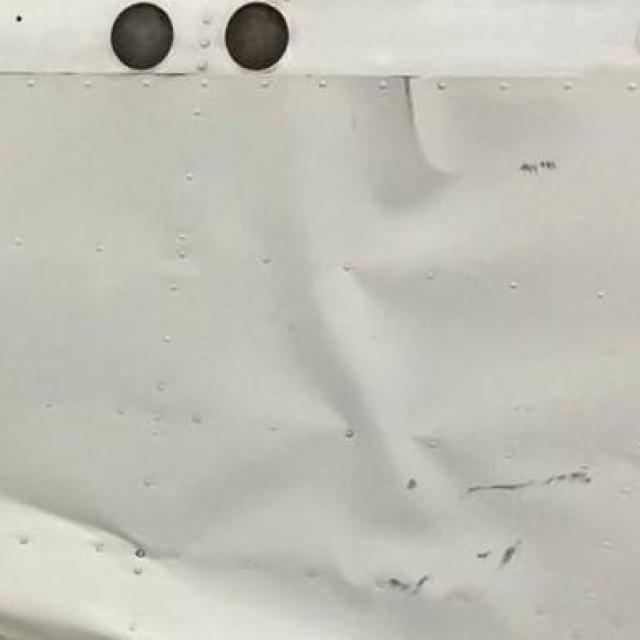Dent: (280, 296, 417, 540), (363, 78, 476, 214), (1, 479, 171, 563), (0, 605, 124, 640)
